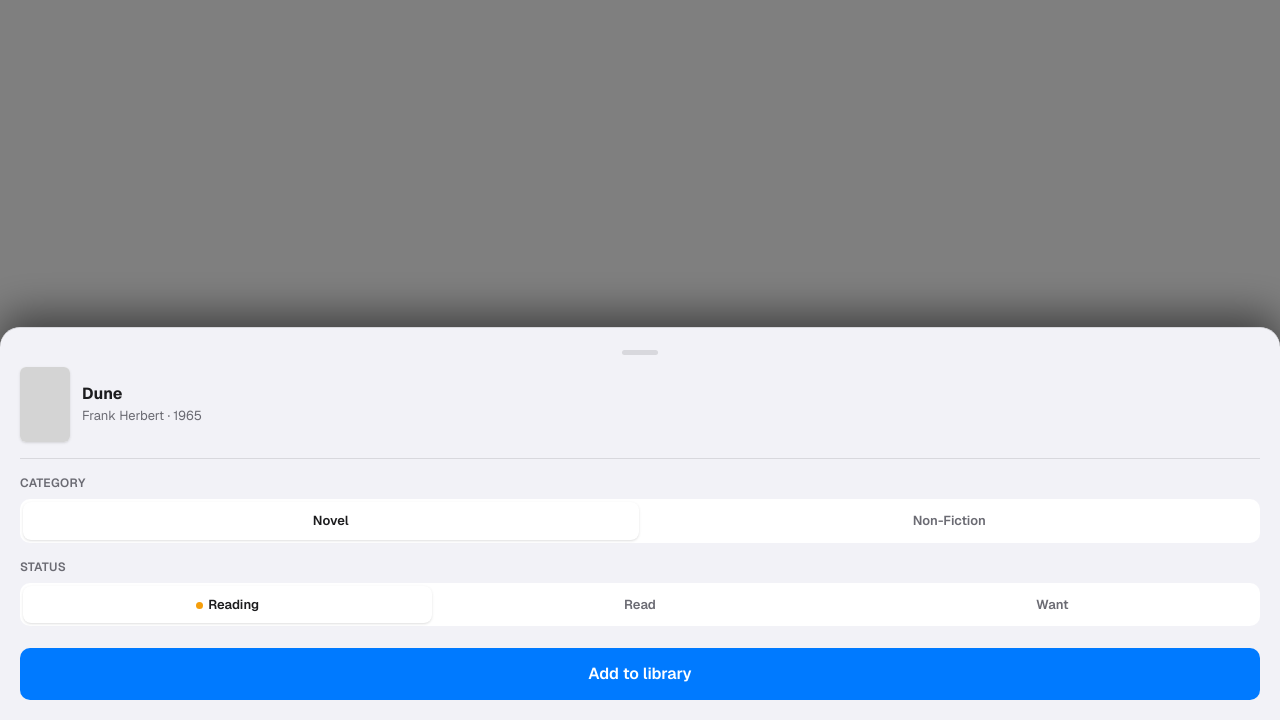
Test: AddBookSheet › shows the duplicate error and does not render the success view
Click the button "Add to library" at (640, 674), box [20,648,1260,700]
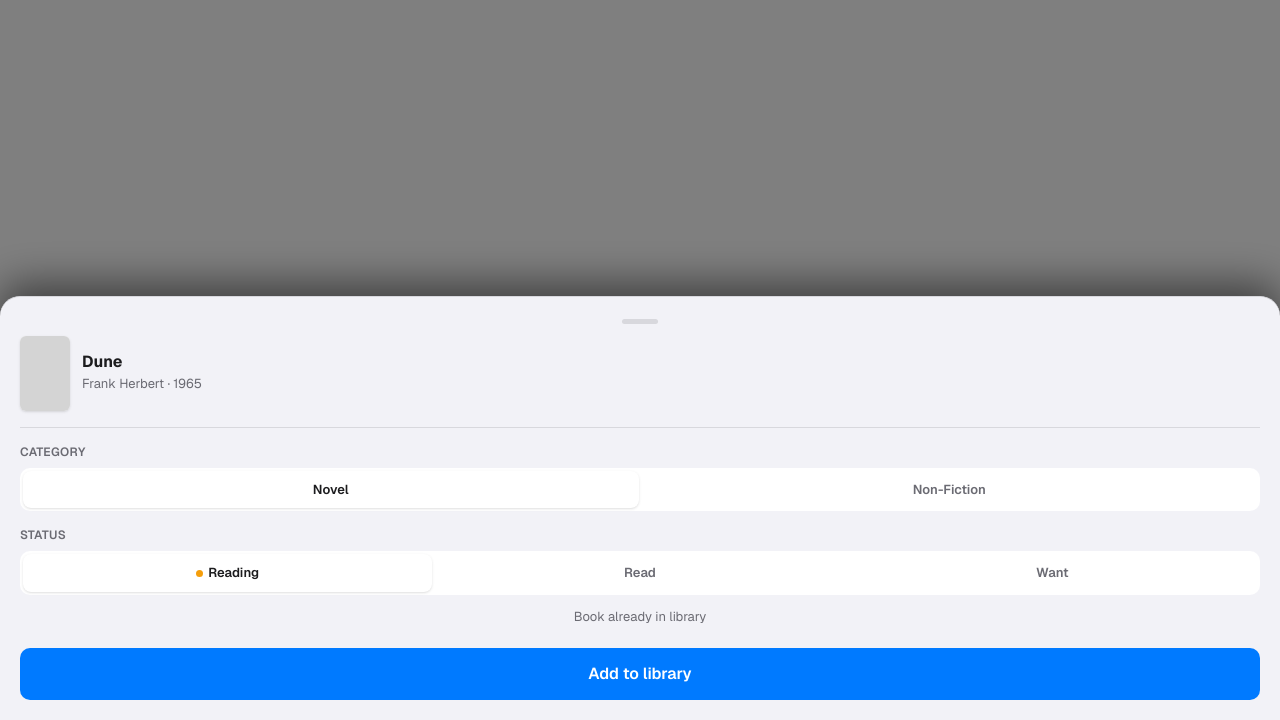
Expected: the text "Book already in library" is shown, [574,608,706,624]
